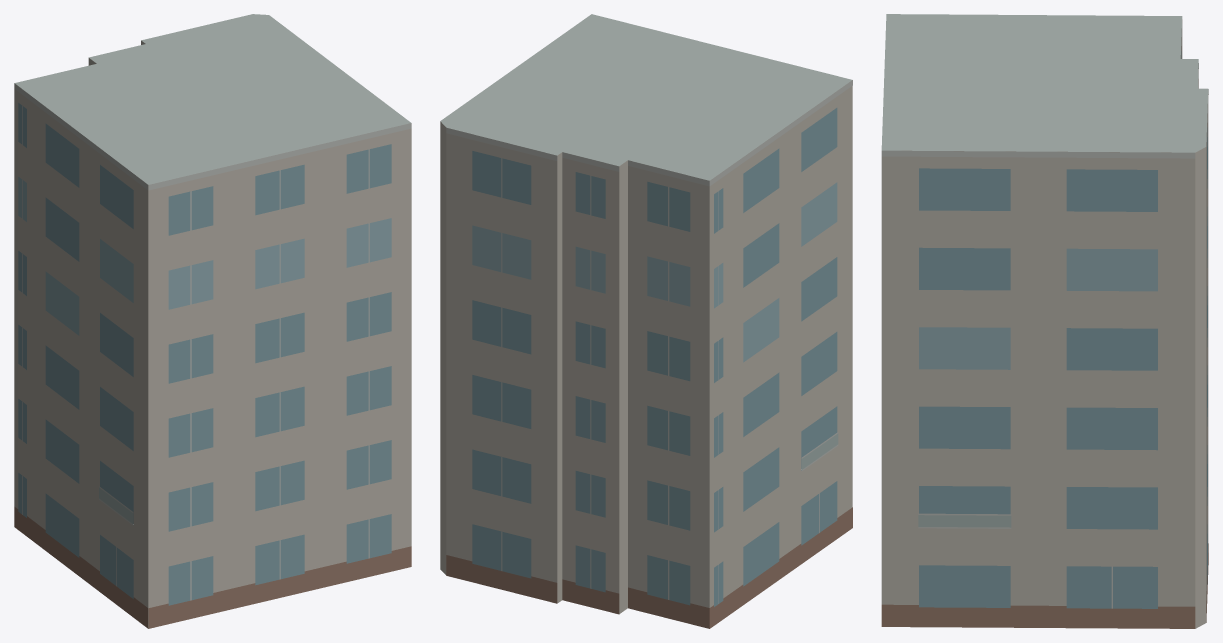
The model's file is survey-upis-33016857.glb.
3 views of the same model, side by side, from view 1: azimuth 30°, elevation 25°; view 2: azimuth 150°, elevation 25°; view 3: azimuth 270°, elevation 25° (orthographic). The views are drawn at different scales.
Parts seen in each view (by area): view 1: survey-upis-33016857.tmp; view 2: survey-upis-33016857.tmp; view 3: survey-upis-33016857.tmp.
Part boxes in pixels (x1,y1,x2,y2): survey-upis-33016857.tmp: (14, 14, 411, 628); survey-upis-33016857.tmp: (440, 14, 852, 628); survey-upis-33016857.tmp: (881, 14, 1208, 628).
Size of the model in its own units: 12.16 by 19.45 by 12.1.
